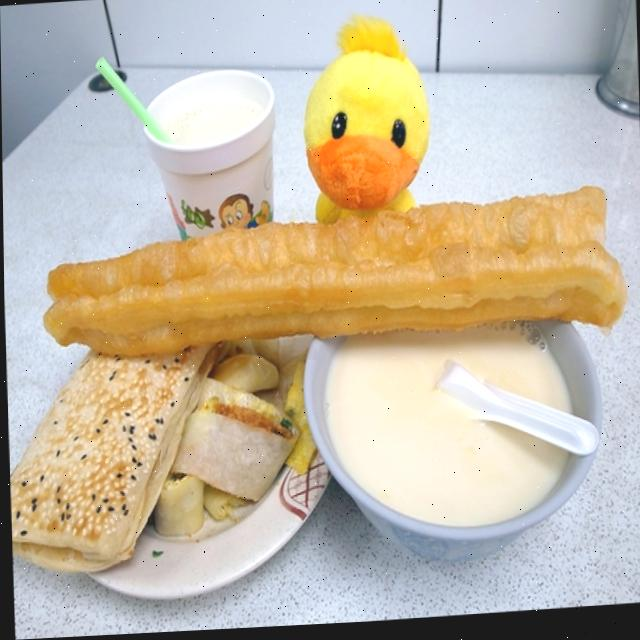炸货点心: (8, 128, 634, 442)
